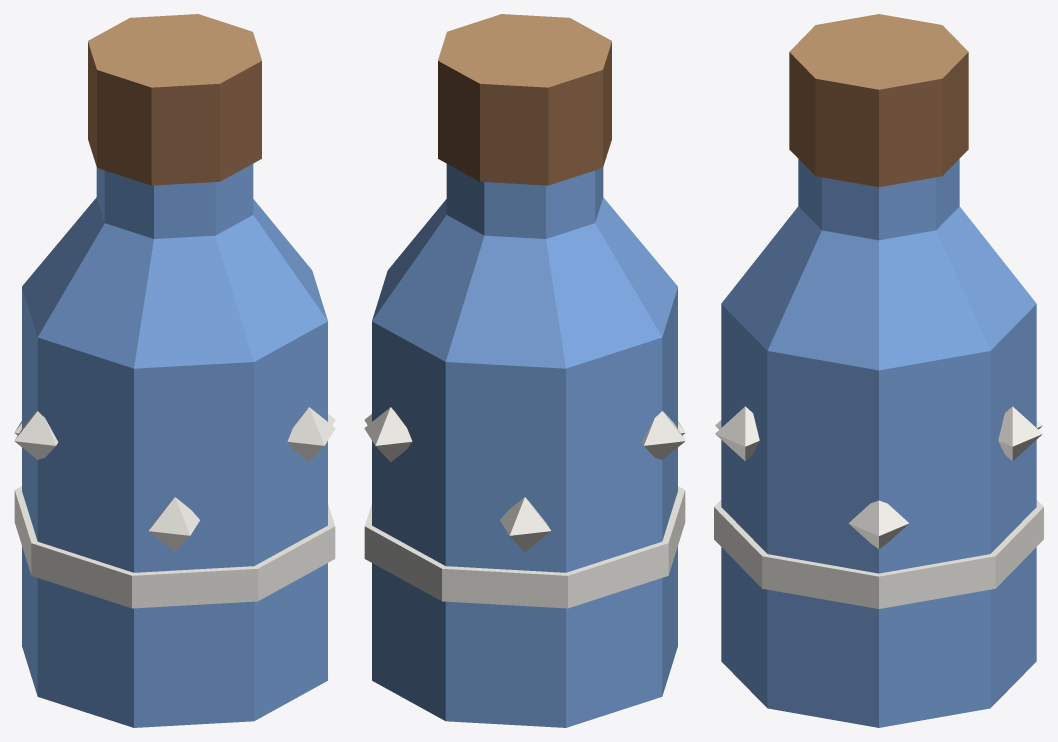
The model's file is deco_fx_bubbles.obj.
3 renders of one model, left to right at view 1: azimuth 30°, elevation 25°; view 2: azimuth 150°, elevation 25°; view 3: azimuth 270°, elevation 25°, orthographic.
Visible parts, largest first — view 1: deco_fx_bubbles; view 2: deco_fx_bubbles; view 3: deco_fx_bubbles.
Part boxes in pixels (x1=…): deco_fx_bubbles: x1=14, y1=14, x2=335, y2=727; deco_fx_bubbles: x1=364, y1=14, x2=685, y2=727; deco_fx_bubbles: x1=714, y1=14, x2=1043, y2=727.
Bounding box in the file's own units: 0.0206 × 0.0375 × 0.0184.
Materials: 1 (1 with a texture image).
